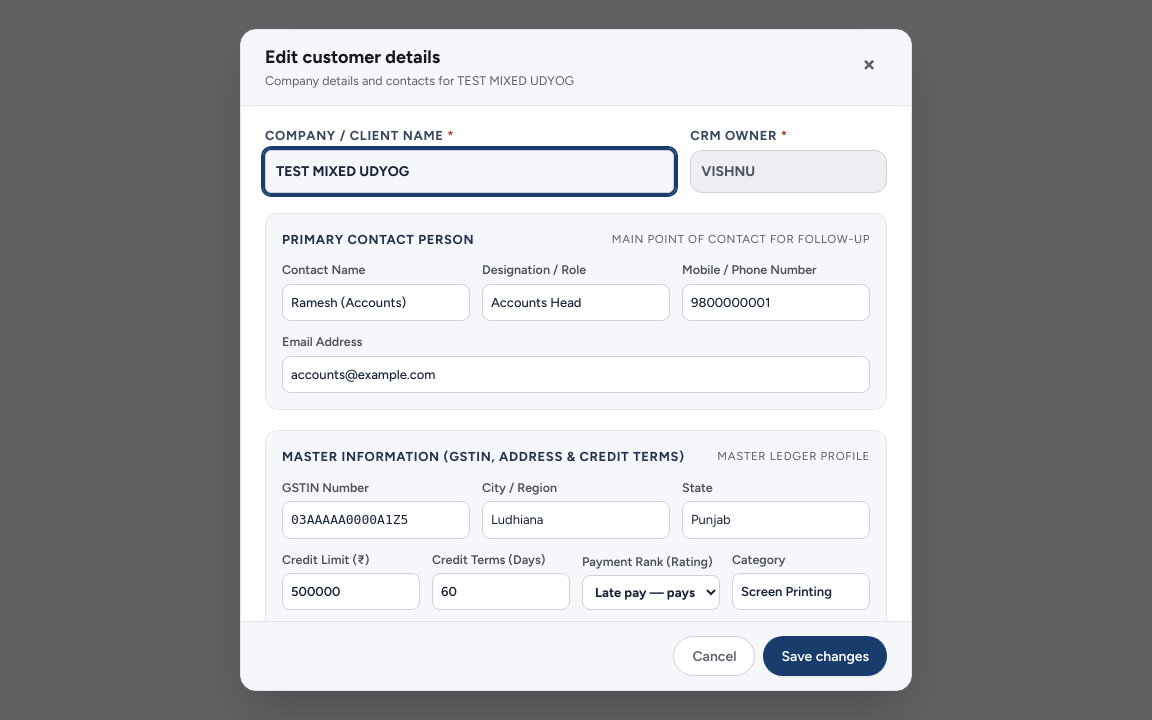
Test: the customer edit dialog on a refused save › stays open with the error and the typed phone number; the caller decides when it closes
Step 1. Replace the text in the field showing "9800000001" below "Mobile / Phone Number" with "9822222222" → (776, 303), box [682,284,870,321]
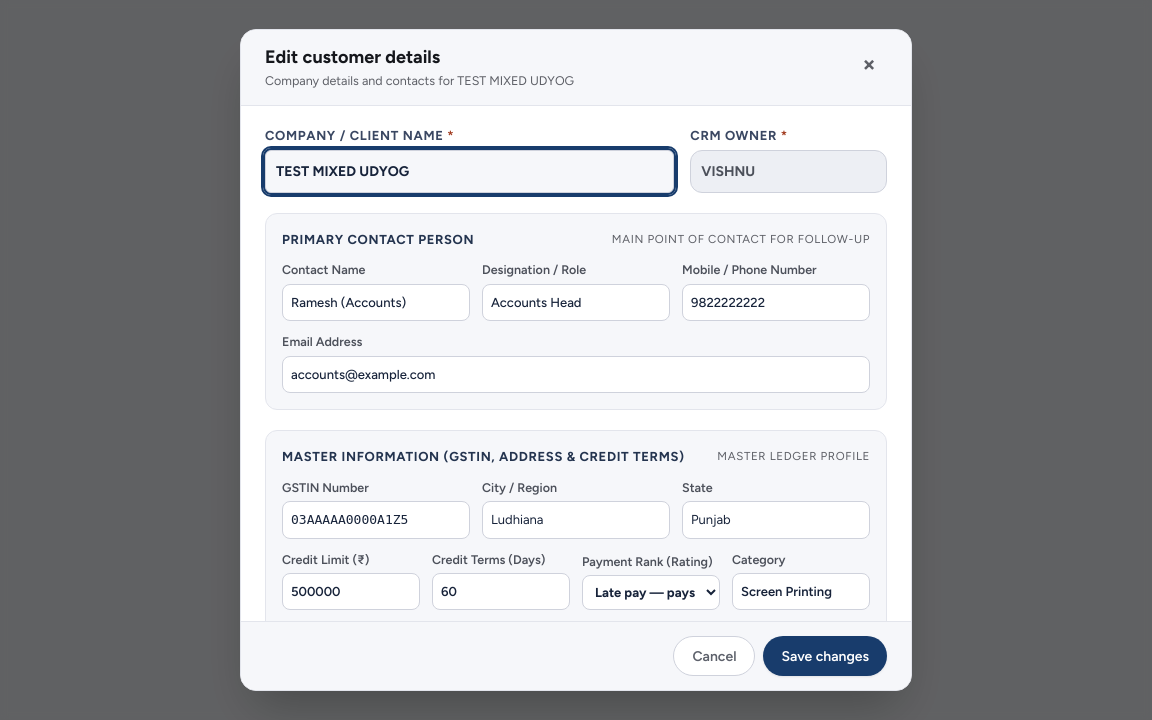
Step 2. Click the button "Save changes" → (825, 656), box [764,636,887,676]
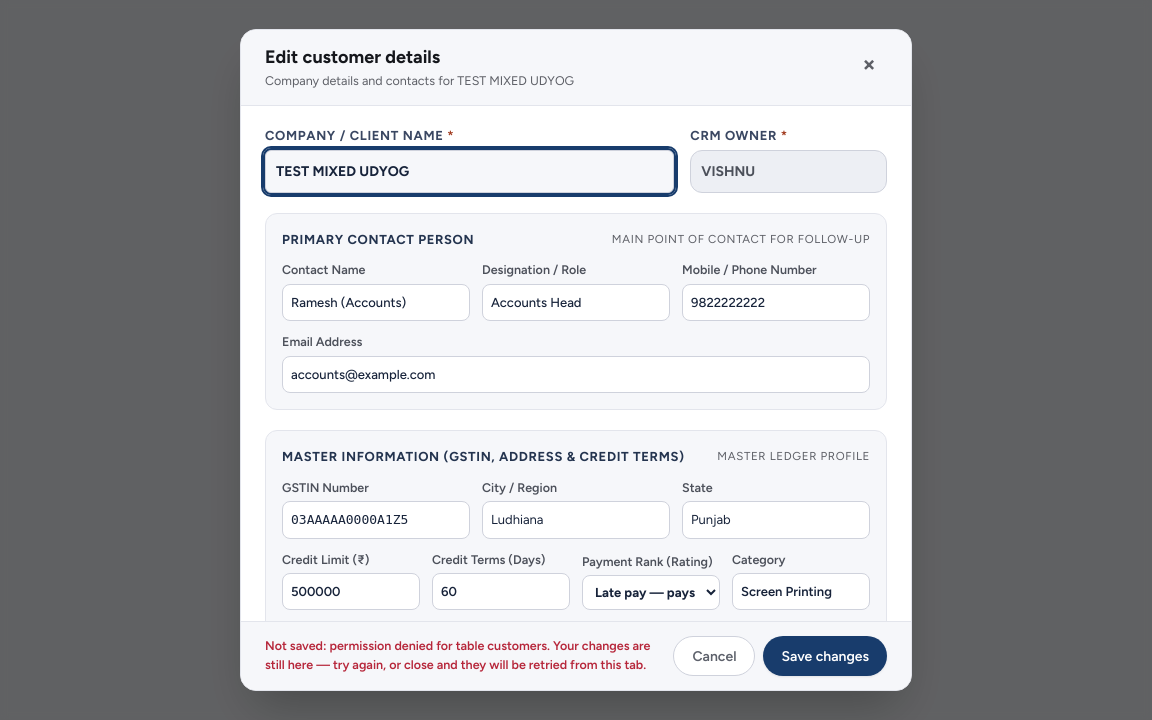
Expected: the message shows "Not saved: permission denied", [265,638,650,672]
